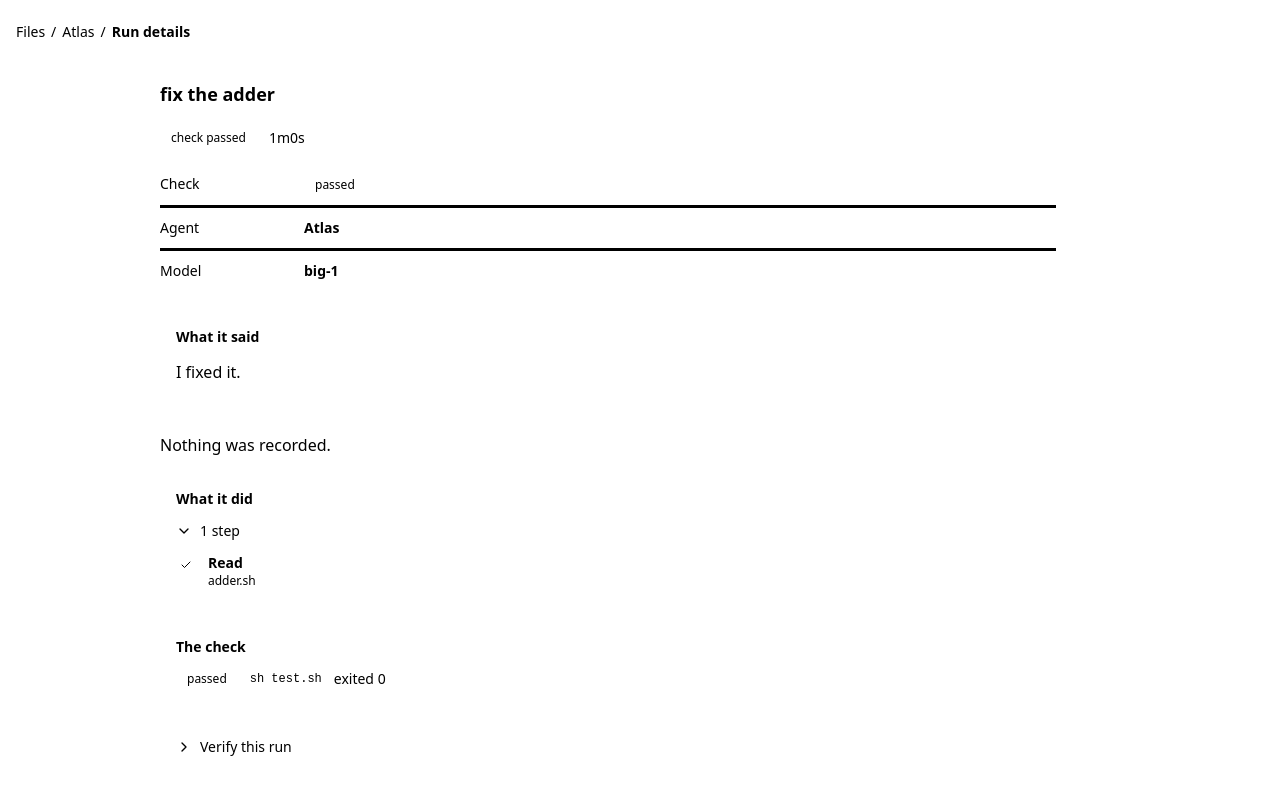
Test: a task's page › says how a record was or was not signed
Later steps or results of the test are not shown.
Click the button "Verify this run": click(234, 747) [176, 737, 292, 757]
(page scrolled)
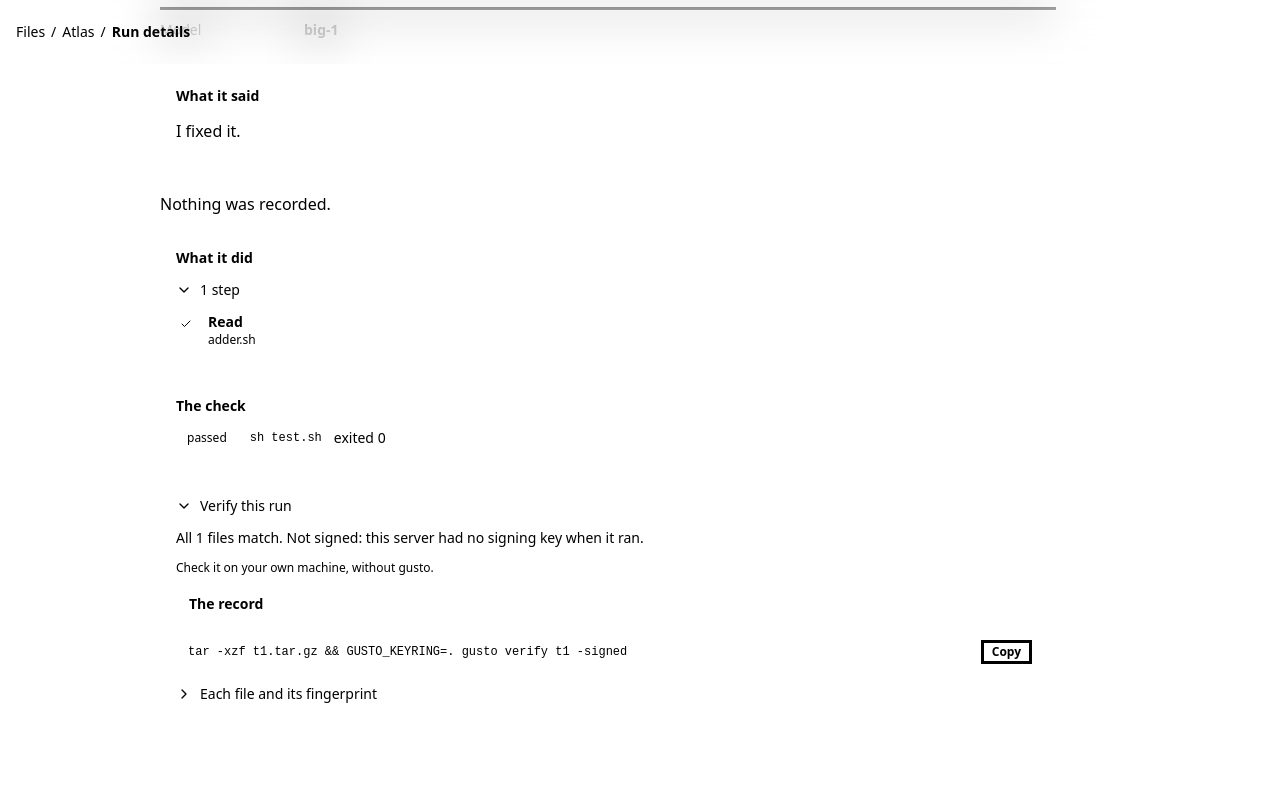
Now the element with test id "task-proof" shows "All 1 files match. Not signed: this server had no signing key when it ran.", box [160, 480, 1056, 720]
